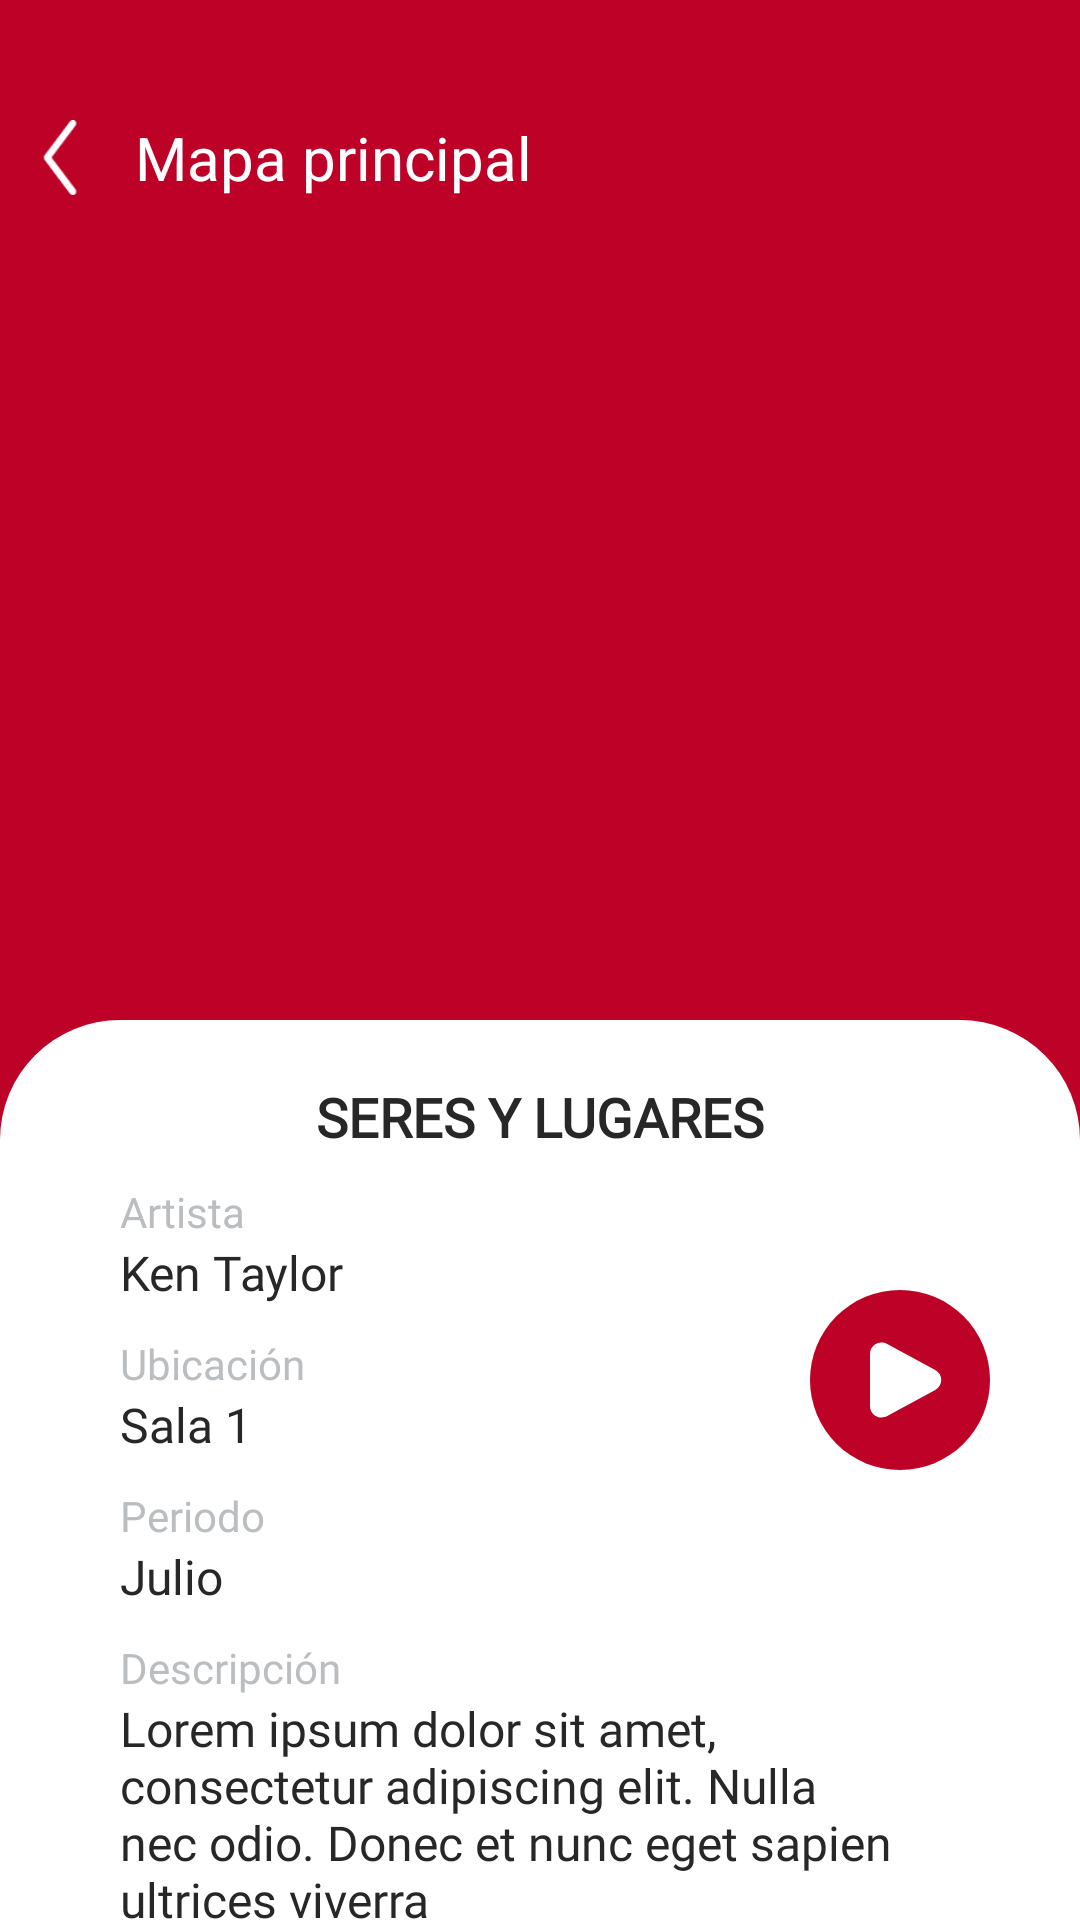

Locate icon controls on the screen. Image size 1080px x 1920px, boxes as (x1, y1, x2, y2).
left arrow: (43, 120, 77, 195)
play: (870, 1342, 942, 1418)
